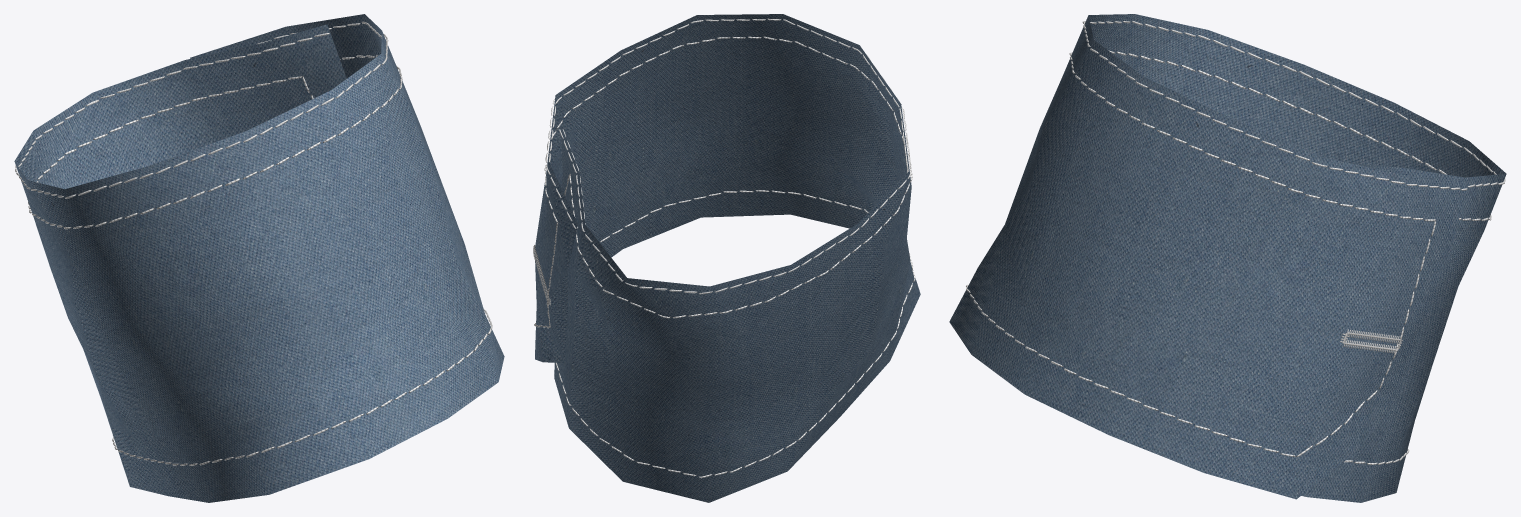
The model's file is sz2zuoxiukq.glb.
3 renders of one model, left to right at view 1: azimuth 30°, elevation 25°; view 2: azimuth 150°, elevation 25°; view 3: azimuth 270°, elevation 25°, orthographic. The views are drawn at different scales.
Parts seen in each view (by area): view 1: sz2zuoxiukq, _3; view 2: sz2zuoxiukq, _3; view 3: sz2zuoxiukq, _3.
Boxes of the visible parts, left/top/right/bottom form: sz2zuoxiukq: left=14, top=14, right=504, bottom=502; _3: left=15, top=21, right=492, bottom=465; sz2zuoxiukq: left=534, top=14, right=920, bottom=502; _3: left=533, top=18, right=915, bottom=478; sz2zuoxiukq: left=949, top=14, right=1506, bottom=502; _3: left=966, top=21, right=1505, bottom=464.
Bounding box in the file's own units: 0.875 × 0.9254 × 1.04.
Materials: 4 (4 with a texture image).
